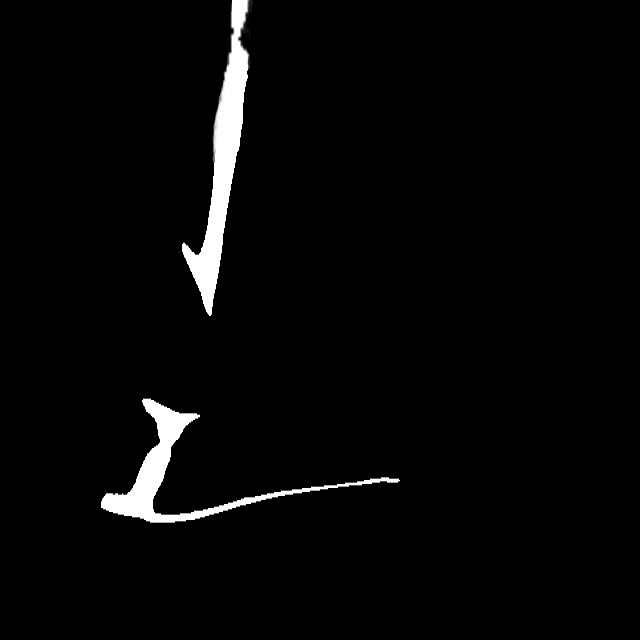sl: (221, 0, 255, 69)
